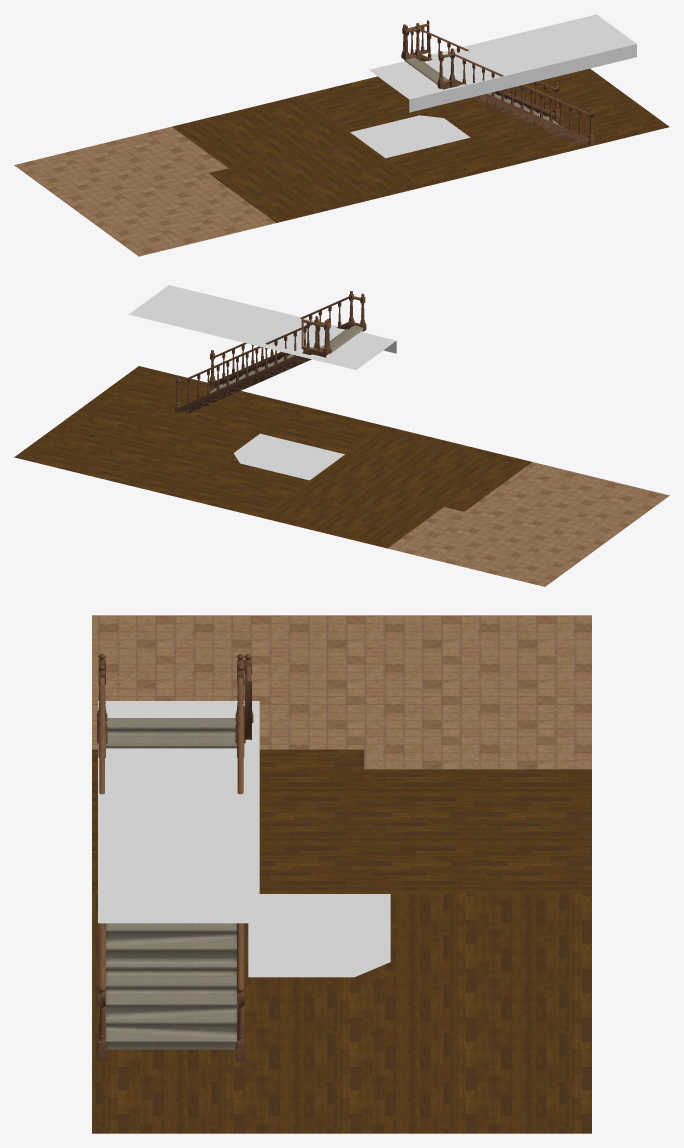
The model's file is 01_primer_piso_floor.fbx.
3 renders of one model, top to bottom at view 1: azimuth 30°, elevation 25°; view 2: azimuth 150°, elevation 25°; view 3: azimuth 270°, elevation 25°, orthographic. The views are drawn at different scales.
Parts seen in each view (by area): view 1: 40_Hom-Harwood-Floor_0.1_0_0.001, 40_Hom-Kitchen-Tiles-01_0.1_0_0.001, Plane, 40_Hom-Staircase_0.1_0_0.000, 40_Hom-Bath-Floor-Vintage-Tile_0.1_0_0.001; view 2: 40_Hom-Harwood-Floor_0.1_0_0.001, 40_Hom-Kitchen-Tiles-01_0.1_0_0.001, Plane, 40_Hom-Staircase_0.1_0_0.000, 40_Hom-Bath-Floor-Vintage-Tile_0.1_0_0.001; view 3: 40_Hom-Harwood-Floor_0.1_0_0.001, 40_Hom-Kitchen-Tiles-01_0.1_0_0.001, Plane, 40_Hom-Staircase_0.1_0_0.000, 40_Hom-Bath-Floor-Vintage-Tile_0.1_0_0.001.
Part boxes in pixels (<box>): 40_Hom-Harwood-Floor_0.1_0_0.001: <box>172,68,669,222</box>; 40_Hom-Kitchen-Tiles-01_0.1_0_0.001: <box>14,126,275,256</box>; Plane: <box>369,14,636,112</box>; 40_Hom-Staircase_0.1_0_0.000: <box>401,20,594,145</box>; 40_Hom-Bath-Floor-Vintage-Tile_0.1_0_0.001: <box>350,115,470,158</box>; 40_Hom-Harwood-Floor_0.1_0_0.001: <box>14,366,531,548</box>; 40_Hom-Kitchen-Tiles-01_0.1_0_0.001: <box>387,462,669,586</box>; Plane: <box>129,285,396,369</box>; 40_Hom-Staircase_0.1_0_0.000: <box>174,291,366,413</box>; 40_Hom-Bath-Floor-Vintage-Tile_0.1_0_0.001: <box>233,433,344,480</box>; 40_Hom-Harwood-Floor_0.1_0_0.001: <box>92,749,591,1133</box>; 40_Hom-Kitchen-Tiles-01_0.1_0_0.001: <box>92,615,591,769</box>; Plane: <box>98,701,259,923</box>; 40_Hom-Staircase_0.1_0_0.000: <box>97,654,253,1061</box>; 40_Hom-Bath-Floor-Vintage-Tile_0.1_0_0.001: <box>248,894,390,977</box>.
Bounding box in the file's own units: 20.29 × 8.27 × 4.72.
